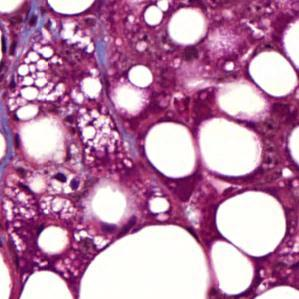steatosis: (212, 187, 292, 259), (143, 119, 197, 183)
